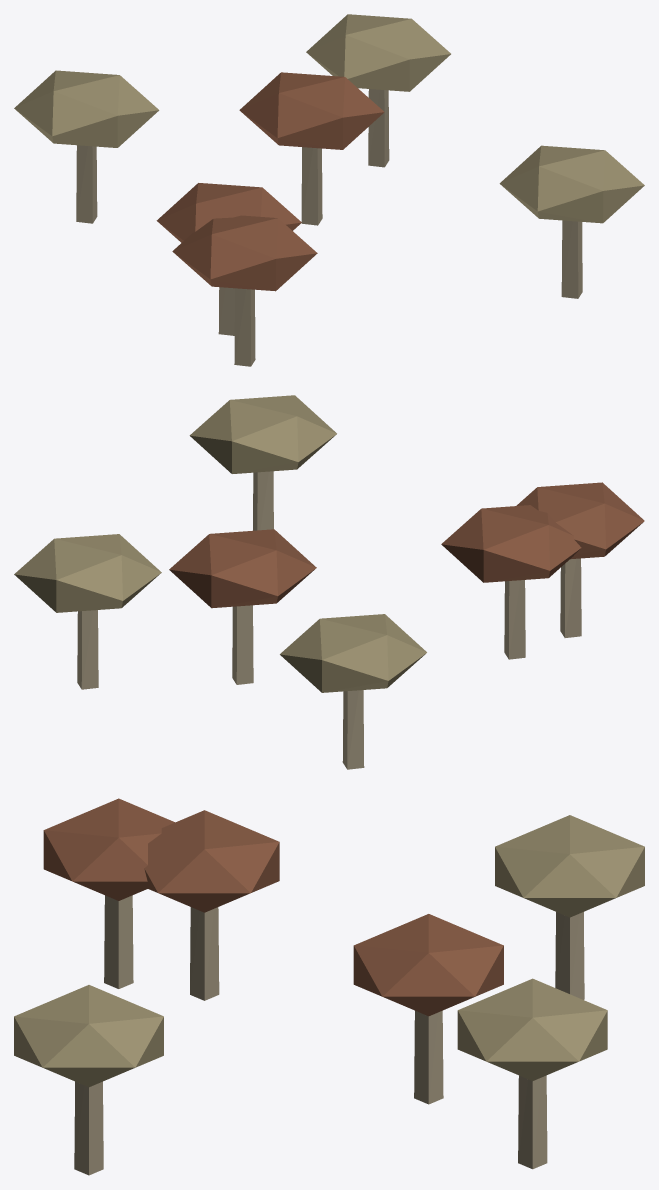
The model's file is forest_mushrooms-far.glb.
3 views of the same model, one above another, from view 1: azimuth 30°, elevation 25°; view 2: azimuth 150°, elevation 25°; view 3: azimuth 270°, elevation 25° (orthographic). The views are drawn at different scales.
Parts seen in each view (by area): view 1: world-scenery/forest_mushrooms-far; view 2: world-scenery/forest_mushrooms-far; view 3: world-scenery/forest_mushrooms-far.
Boxes of the visible parts, left/top/right/bottom form: world-scenery/forest_mushrooms-far: left=14, top=14, right=644, bottom=366; world-scenery/forest_mushrooms-far: left=14, top=395, right=644, bottom=769; world-scenery/forest_mushrooms-far: left=14, top=798, right=644, bottom=1175.
Size of the model in its own units: 1 by 0.3095 by 1.07.
